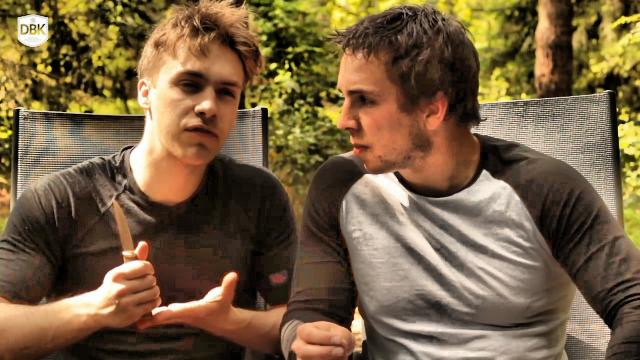knife: (96, 192, 164, 300)
